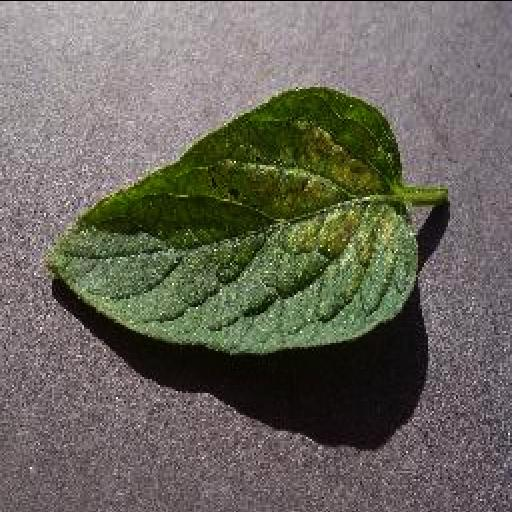disease_tomato: (39, 88, 421, 354)
